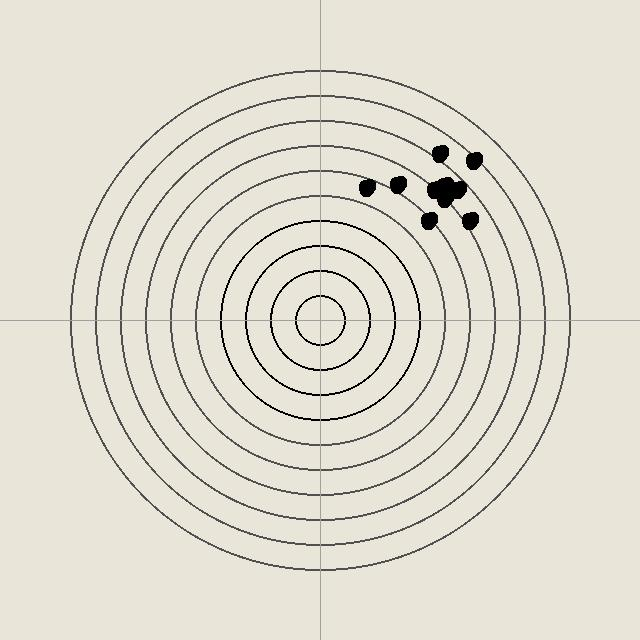good_group: (429, 143, 449, 163), (463, 150, 483, 170), (424, 179, 444, 199), (434, 188, 454, 208), (459, 210, 479, 230), (434, 175, 454, 195), (447, 179, 467, 199), (418, 210, 438, 230), (387, 174, 407, 194), (356, 177, 376, 197)
